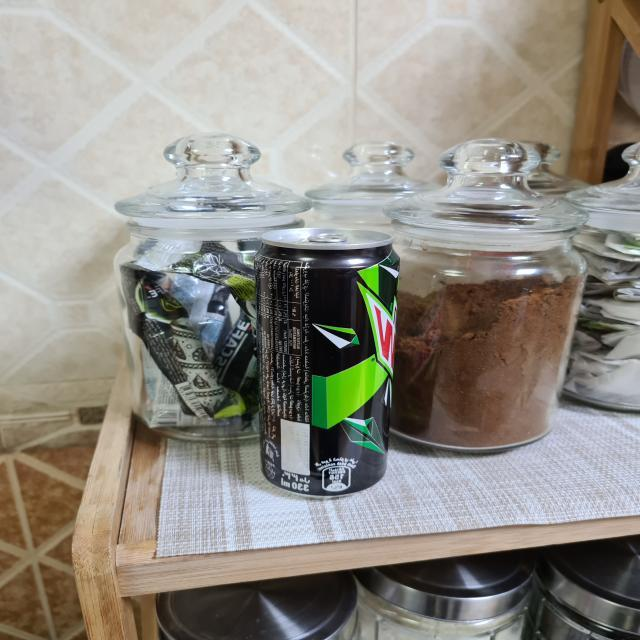can: (252, 228, 402, 498)
